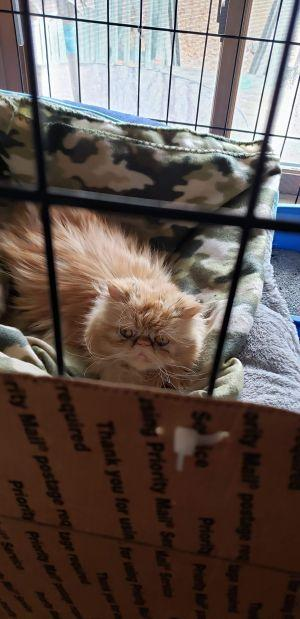persian: (83, 273, 214, 375)
